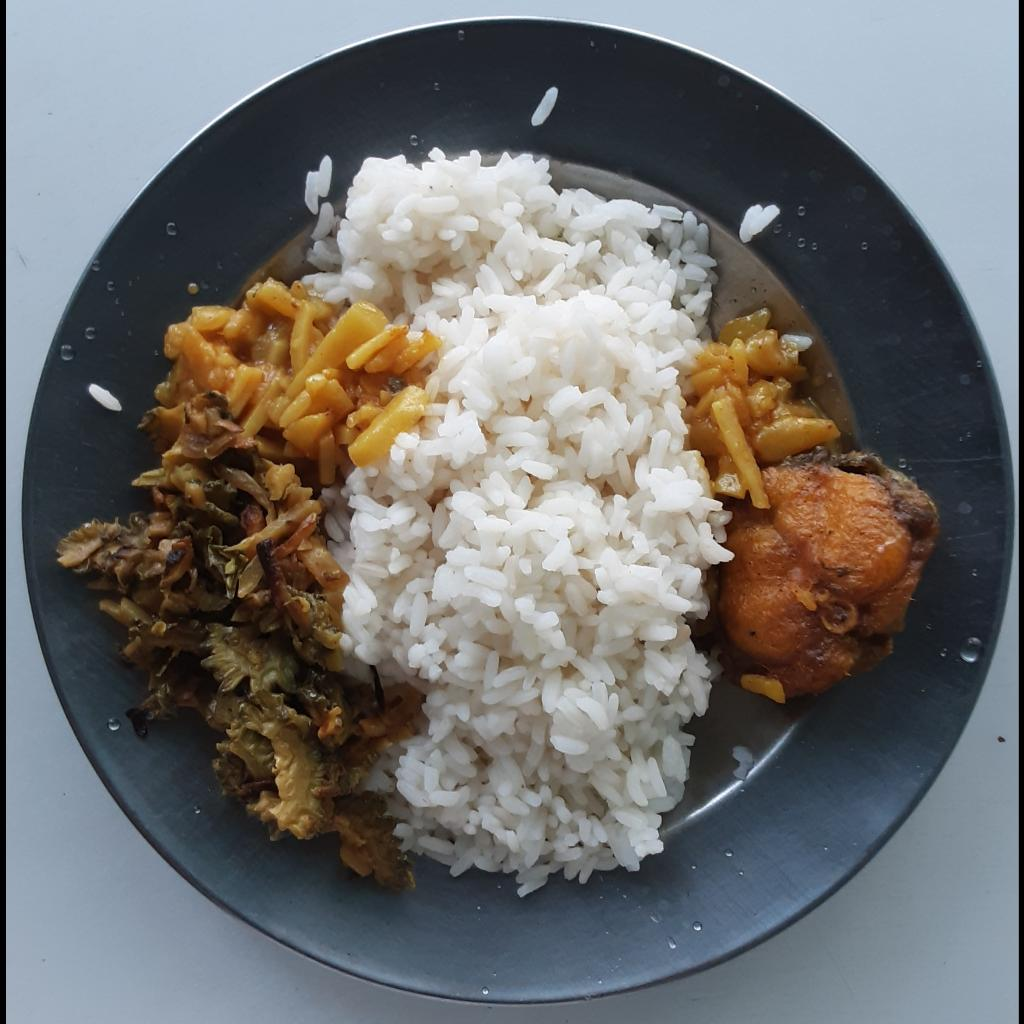fish: (718, 447, 936, 704)
korola-vaji: (54, 397, 421, 901)
potato: (155, 283, 433, 484), (684, 305, 839, 508)
rice: (297, 148, 739, 895)
